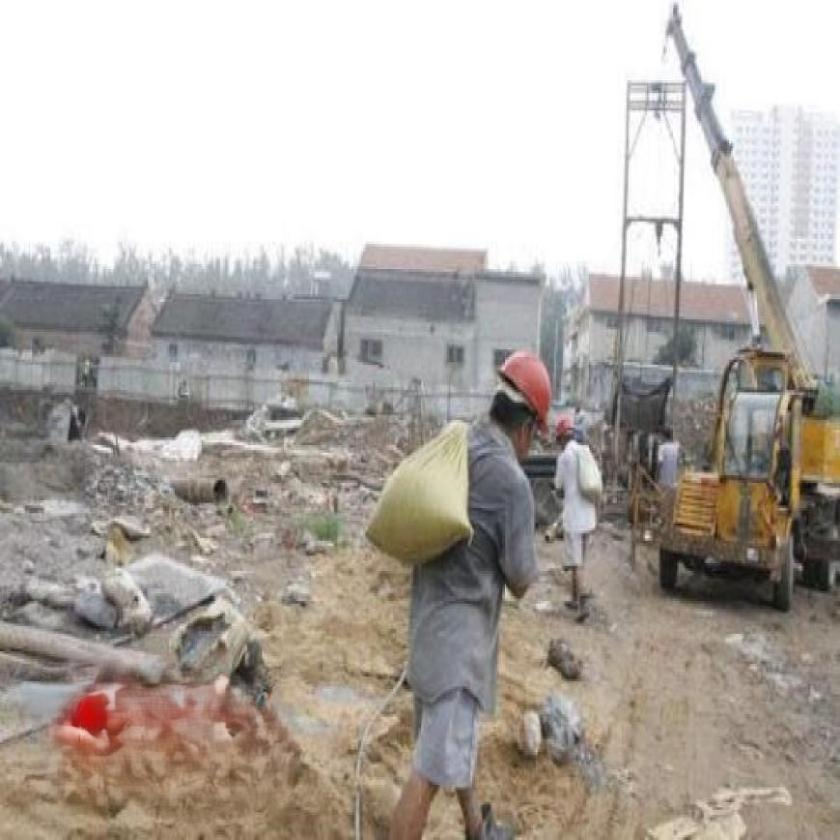Con_casco: (488, 353, 556, 459)
